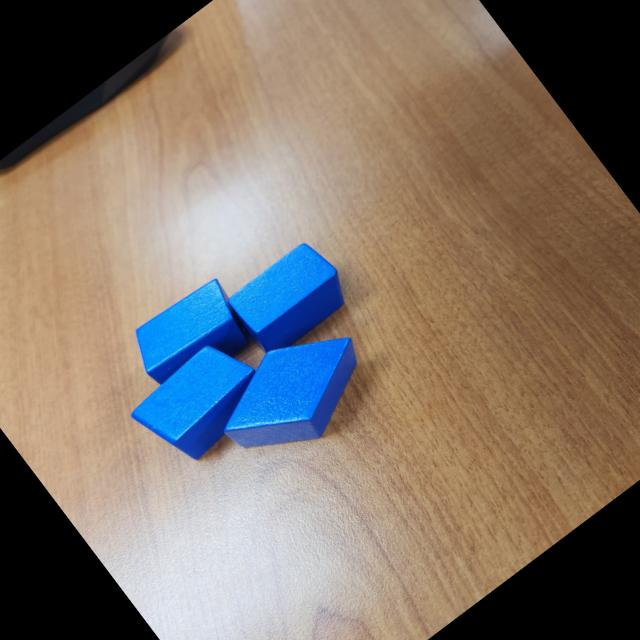blue: (200, 304, 390, 482), (123, 329, 280, 478), (121, 270, 263, 405), (222, 234, 358, 365)
